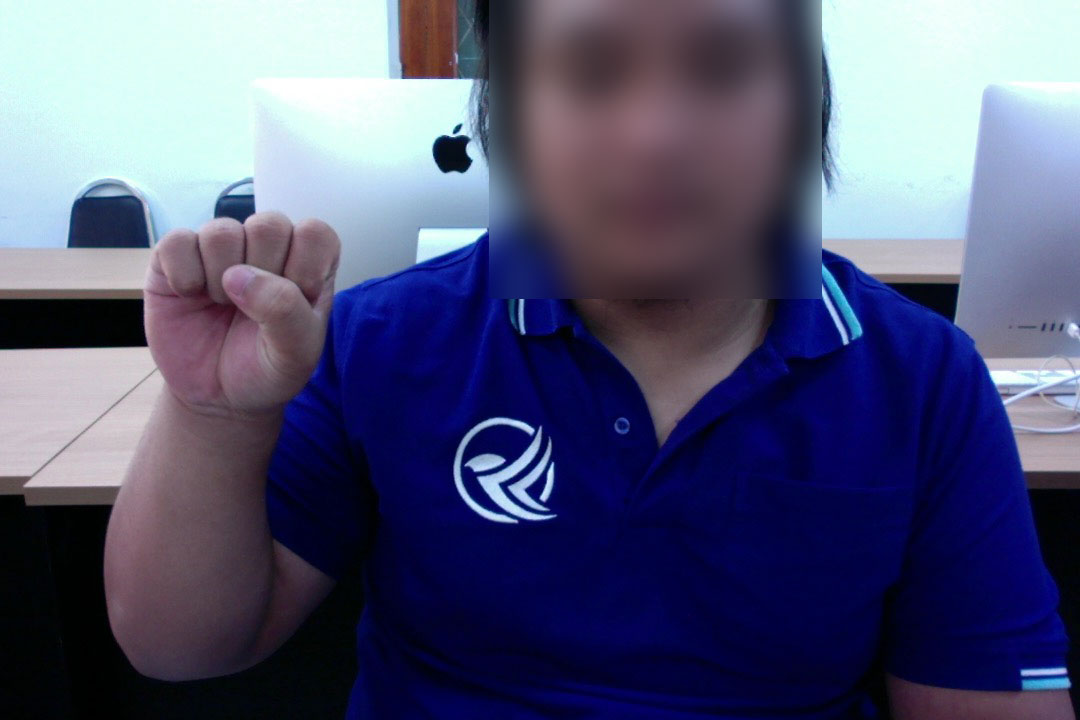sor: (133, 206, 350, 421)
